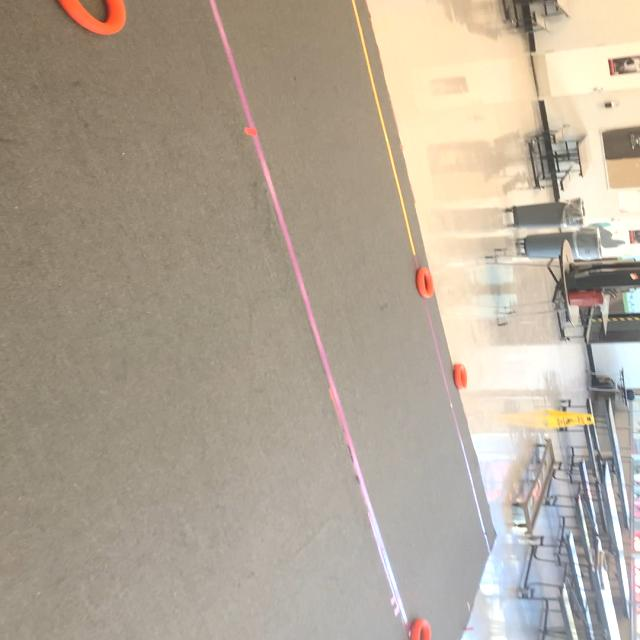notes: (30, 0, 147, 37), (406, 261, 438, 301)
